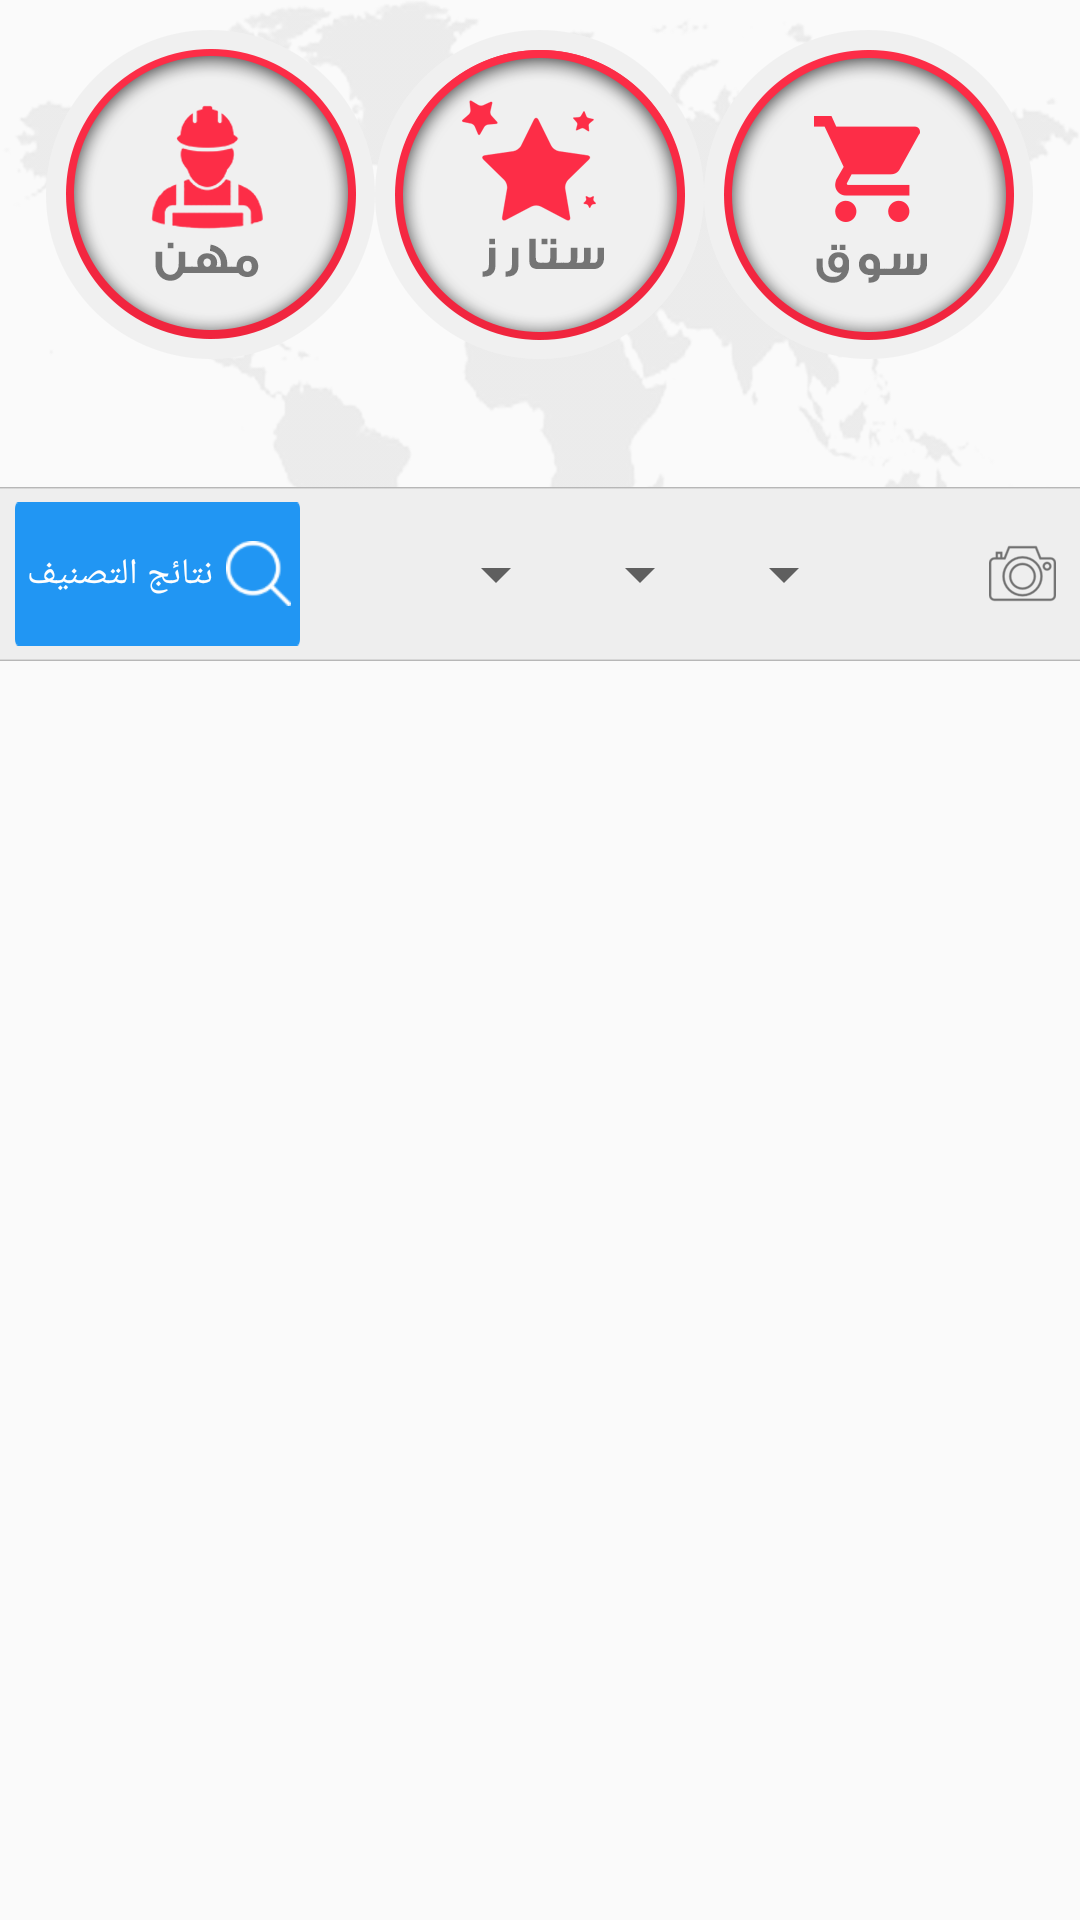

Screen size 1080px×1920px. Icon name, then its center in pixels as [x,y]:
camera: [1022,573]
